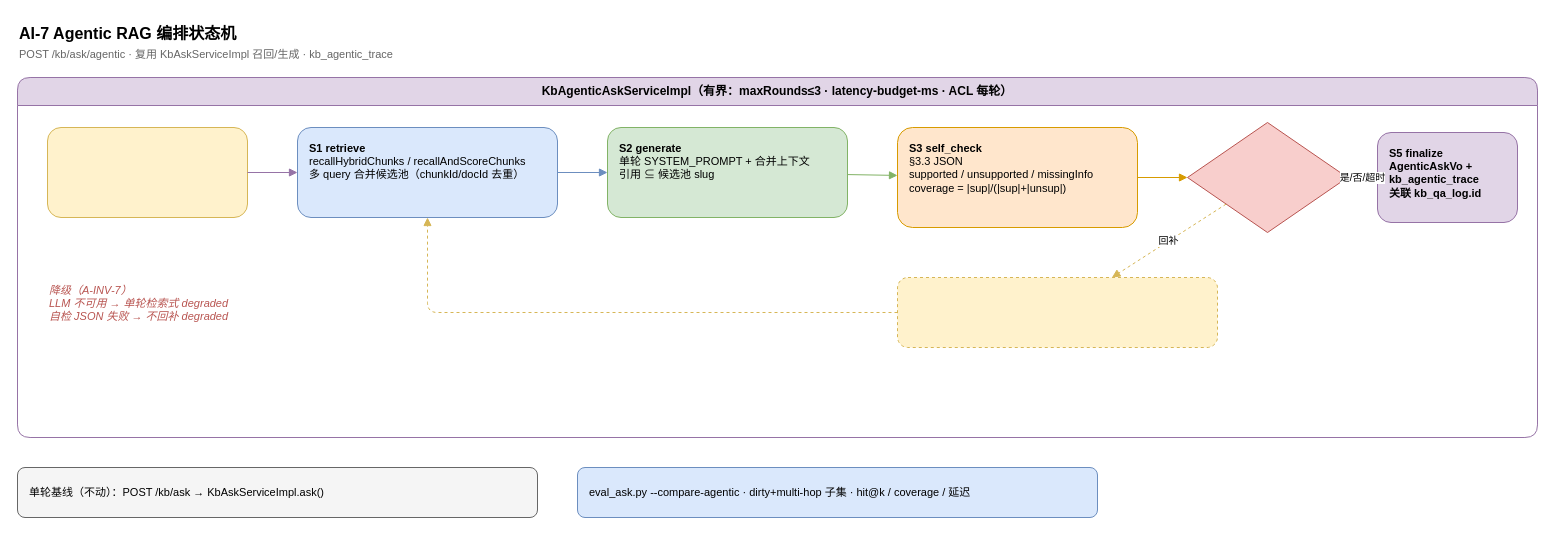
Image size: 1555x535. Some labels were removed from this diagram. The box of each missing label's shape, as (x1, y1, x2, y2) in pixels:
S0 rewrite_decompose KbLlmClient §3.1 rewritten + subQuestions: (46, 126, 248, 218)
S4 decide coverage < threshold 且 round < maxRounds 且未超 latency-budget?: (1186, 122, 1348, 232)
回补 S1：queries = missingInfo ∪ unsupported 关键词 round++ · 并入既有候选池: (896, 276, 1218, 348)
